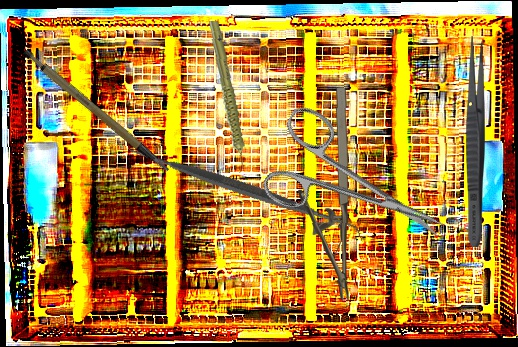Dressing Forceps: (464, 36, 486, 247)
Handpiece: (200, 20, 253, 174)
Iris Scissors: (251, 101, 463, 278)
Needle Holder: (296, 87, 353, 301)
Scalpel Handle: (19, 31, 171, 194)
Spatula Surgical: (124, 69, 363, 309)
